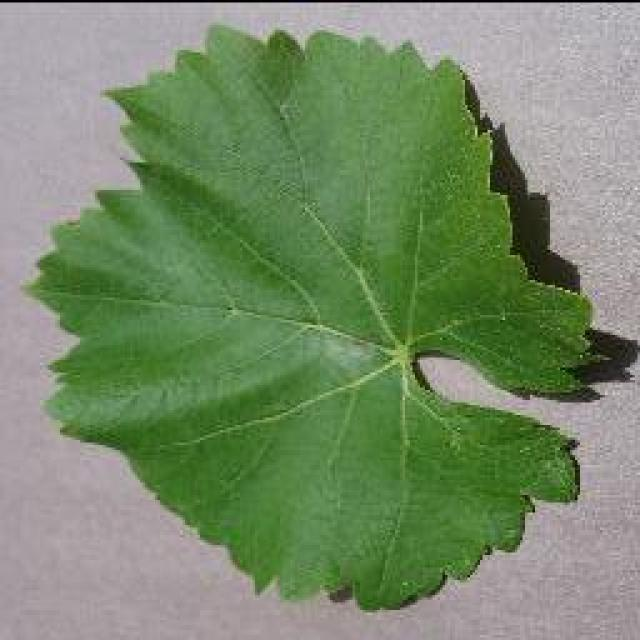Grape___healthy: (30, 25, 592, 605)
